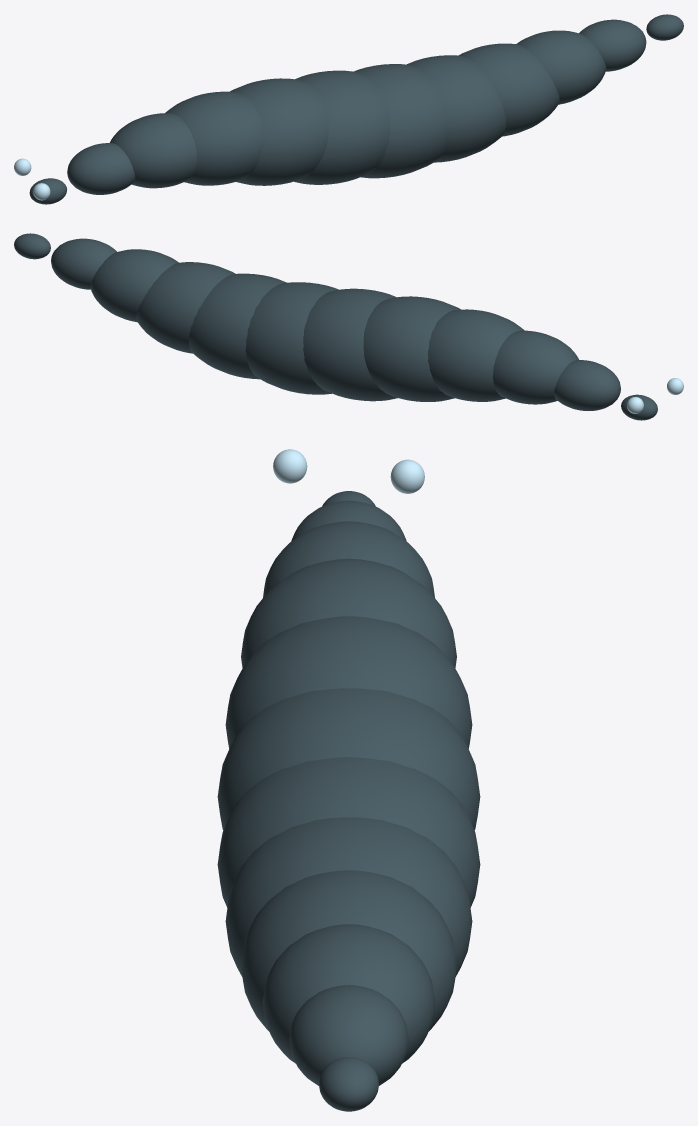
Rendered from leviathan.glb.
3 renders of one model, top to bottom at view 1: azimuth 30°, elevation 25°; view 2: azimuth 150°, elevation 25°; view 3: azimuth 270°, elevation 25°, orthographic. The views are drawn at different scales.
Parts seen in each view (by area): view 1: seg4, seg5, seg6, seg3, seg7, seg8, seg2, seg9, seg1, seg10, seg11, seg0; view 2: seg4, seg5, seg6, seg3, seg7, seg8, seg2, seg9, seg1, seg10, seg11, seg0; view 3: seg5, seg6, seg4, seg7, seg8, seg9, seg3, seg10, seg2, seg11, seg1.
Part boxes in pixels (bbox=[...]): seg4: bbox=[230, 78, 328, 185]; seg5: bbox=[294, 70, 389, 184]; seg6: bbox=[354, 64, 448, 178]; seg3: bbox=[165, 91, 263, 185]; seg7: bbox=[406, 55, 506, 162]; seg8: bbox=[458, 43, 559, 136]; seg2: bbox=[110, 113, 197, 188]; seg9: bbox=[516, 30, 606, 104]; seg1: bbox=[67, 143, 135, 194]; seg10: bbox=[579, 19, 646, 71]; seg11: bbox=[646, 14, 683, 40]; seg0: bbox=[29, 178, 67, 204]; seg4: bbox=[363, 296, 460, 401]; seg5: bbox=[303, 288, 397, 401]; seg6: bbox=[245, 282, 338, 394]; seg3: bbox=[428, 309, 524, 401]; seg7: bbox=[188, 273, 286, 379]; seg8: bbox=[136, 262, 235, 353]; seg2: bbox=[493, 330, 578, 404]; seg9: bbox=[90, 249, 178, 322]; seg1: bbox=[554, 360, 620, 410]; seg10: bbox=[51, 238, 116, 289]; seg11: bbox=[14, 233, 50, 259]; seg0: bbox=[621, 394, 657, 420]; seg5: bbox=[217, 688, 480, 830]; seg6: bbox=[217, 757, 480, 907]; seg4: bbox=[225, 616, 472, 748]; seg7: bbox=[225, 817, 472, 976]; seg8: bbox=[241, 870, 456, 1030]; seg9: bbox=[262, 924, 435, 1063]; seg3: bbox=[241, 558, 456, 667]; seg10: bbox=[289, 985, 408, 1085]; seg2: bbox=[263, 521, 434, 597]; seg11: bbox=[319, 1057, 378, 1111]; seg1: bbox=[291, 500, 406, 541].
Size of the model in its own units: 30.75 by 4.95 by 5.36.
